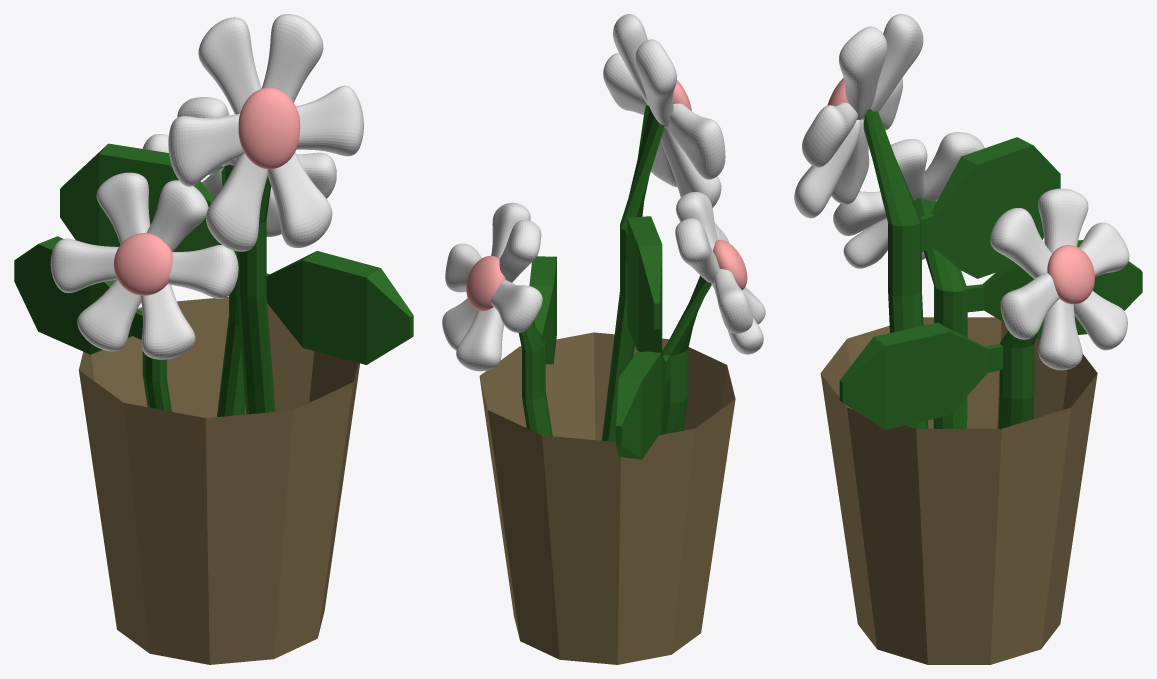
Rendered from Flowers.fbx.
3 renders of one model, left to right at view 1: azimuth 30°, elevation 25°; view 2: azimuth 150°, elevation 25°; view 3: azimuth 270°, elevation 25°, orthographic. The views are drawn at different scales.
Parts seen in each view (by area): view 1: Cylinder.003; view 2: Cylinder.003; view 3: Cylinder.003.
Part boxes in pixels (box(x1,y1,x2,y2)): Cylinder.003: box(14, 14, 413, 664); Cylinder.003: box(442, 14, 765, 664); Cylinder.003: box(794, 14, 1142, 664).
Size of the model in its own units: 245 by 482 by 251.
